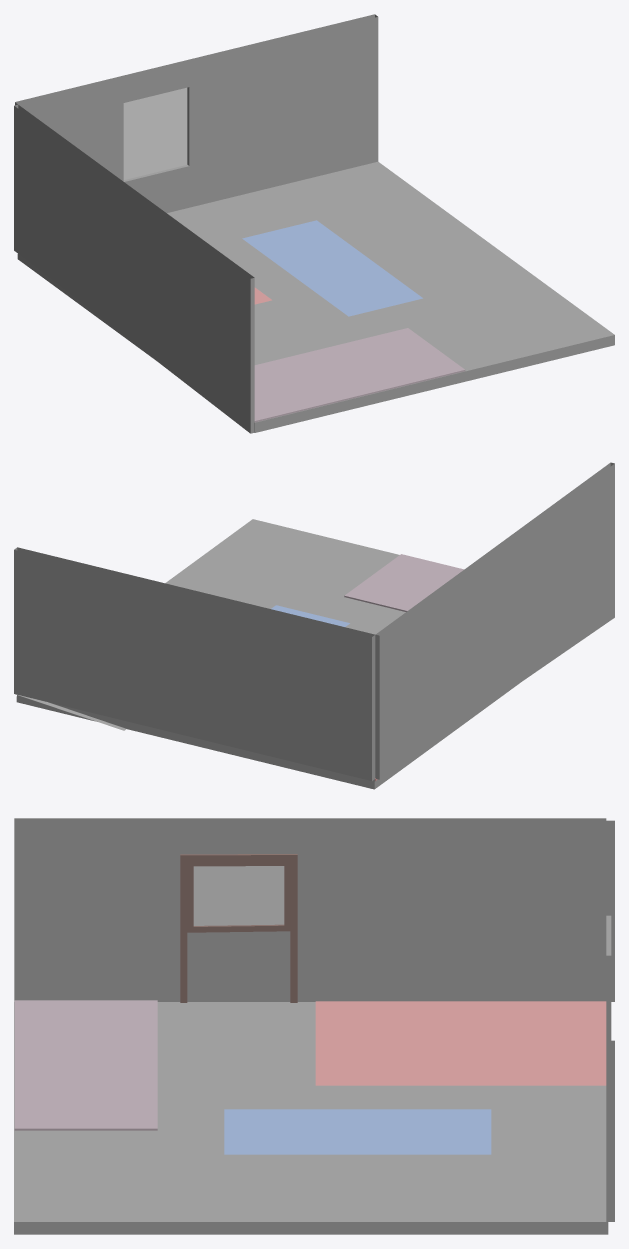
The model's file is LowerFloor.fbx.
The picture shows the model from 3 angles, top to bottom: view 1: azimuth 30°, elevation 25°; view 2: azimuth 150°, elevation 25°; view 3: azimuth 270°, elevation 25°; orthographic projection. The views are drawn at different scales.
Visible parts, largest first — view 1: LowerFloor; view 2: LowerFloor; view 3: LowerFloor.
Part boxes in pixels (x1,y1,x2,y2): LowerFloor: [14, 14, 614, 433]; LowerFloor: [14, 462, 614, 789]; LowerFloor: [14, 818, 614, 1234].
Bounding box in the file's own units: 1424 × 1626 × 580.
